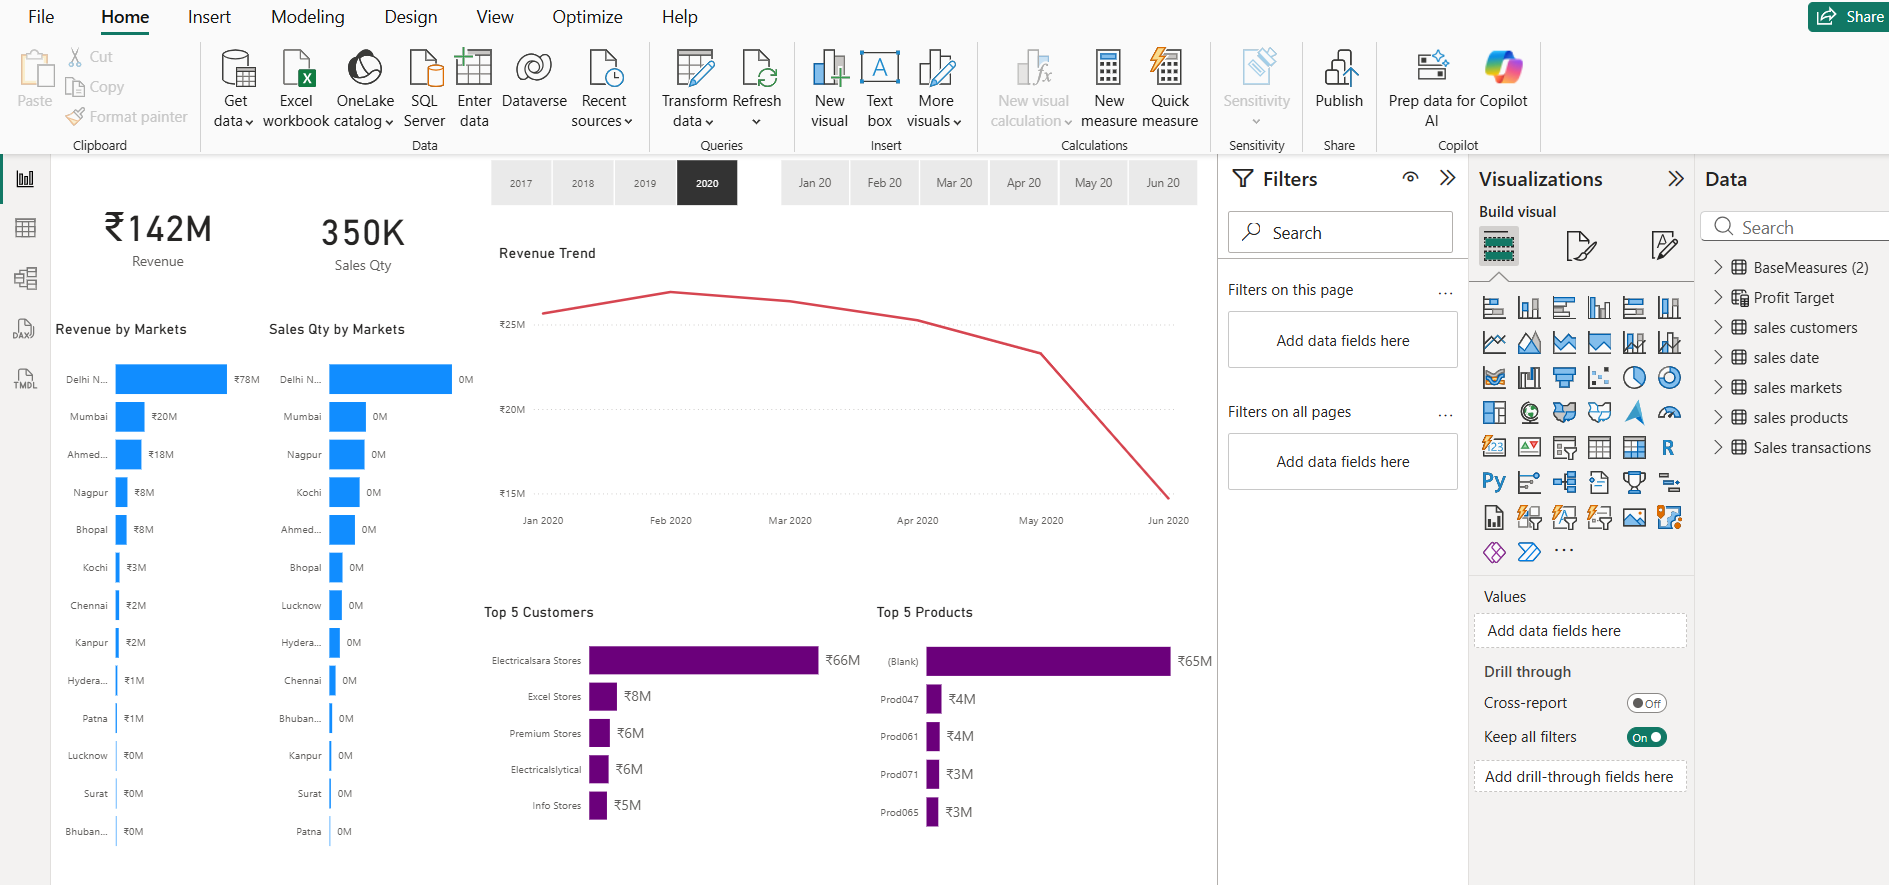

This screenshot's page, from the dashboard's own definition file:
{"tool":"powerbi","page":{"name":"Key Insights","canvas":[1350,850],"ordinal":0},"visuals":[{"type":"card","fields":{"Values":["BaseMeasures (2).Revenue"]},"box":[0,0,247.9,184.6],"z":0},{"type":"card","fields":{"Values":["BaseMeasures (2).Sales Qty"]},"box":[247.9,0,227.9,193.1],"z":1000},{"type":"barChart","title":"Revenue by Markets","fields":{"Category":["sales markets.markets_name"],"Y":["BaseMeasures (2).Revenue"]},"box":[0,193.1,247.9,631.9],"z":2000},{"type":"barChart","title":"Sales Qty by Markets","fields":{"Category":["sales markets.markets_name"],"Y":["BaseMeasures (2).Sales Qty"]},"box":[247.9,193.1,247.9,631.9],"z":3000},{"type":"slicer","fields":{"Values":["sales date.year"]},"box":[483.2,0,335.5,66.5],"z":4000},{"type":"slicer","fields":{"Values":["sales date.cy_date"]},"box":[818.6,0,531.7,66.5],"z":5000},{"type":"barChart","title":"Top 5 Customers","fields":{"Category":["sales customers.custmer_name"],"Y":["BaseMeasures (2).Revenue"]},"box":[495.8,519,446.2,274.3],"z":6000},{"type":"barChart","title":"Top 5 Products","fields":{"Category":["sales products.product_code"],"Y":["BaseMeasures (2).Revenue"]},"box":[950.7,519.2,399.5,282.8],"z":7000},{"type":"lineChart","title":"Revenue Trend","fields":{"Category":["sales date.cy_date"],"Y":["BaseMeasures (2).Revenue"]},"box":[513.8,104.4,809.1,338.6],"z":8000}]}

Visuals, with their boxes on the page's 1350x850 design canvas (x1, y1, x2, y2). These are canvas units, not pixel positions in the 1889x885 screenshot, which may show the page scaled, cropped or inside an application window:
card - BaseMeasures (2).Revenue: {"left": 0, "top": 0, "right": 248, "bottom": 185}
card - BaseMeasures (2).Sales Qty: {"left": 248, "top": 0, "right": 476, "bottom": 193}
"Revenue by Markets" barChart: {"left": 0, "top": 193, "right": 248, "bottom": 825}
"Sales Qty by Markets" barChart: {"left": 248, "top": 193, "right": 496, "bottom": 825}
slicer - sales date.year: {"left": 483, "top": 0, "right": 819, "bottom": 66}
slicer - sales date.cy_date: {"left": 819, "top": 0, "right": 1350, "bottom": 66}
"Top 5 Customers" barChart: {"left": 496, "top": 519, "right": 942, "bottom": 793}
"Top 5 Products" barChart: {"left": 951, "top": 519, "right": 1350, "bottom": 802}
"Revenue Trend" lineChart: {"left": 514, "top": 104, "right": 1323, "bottom": 443}
